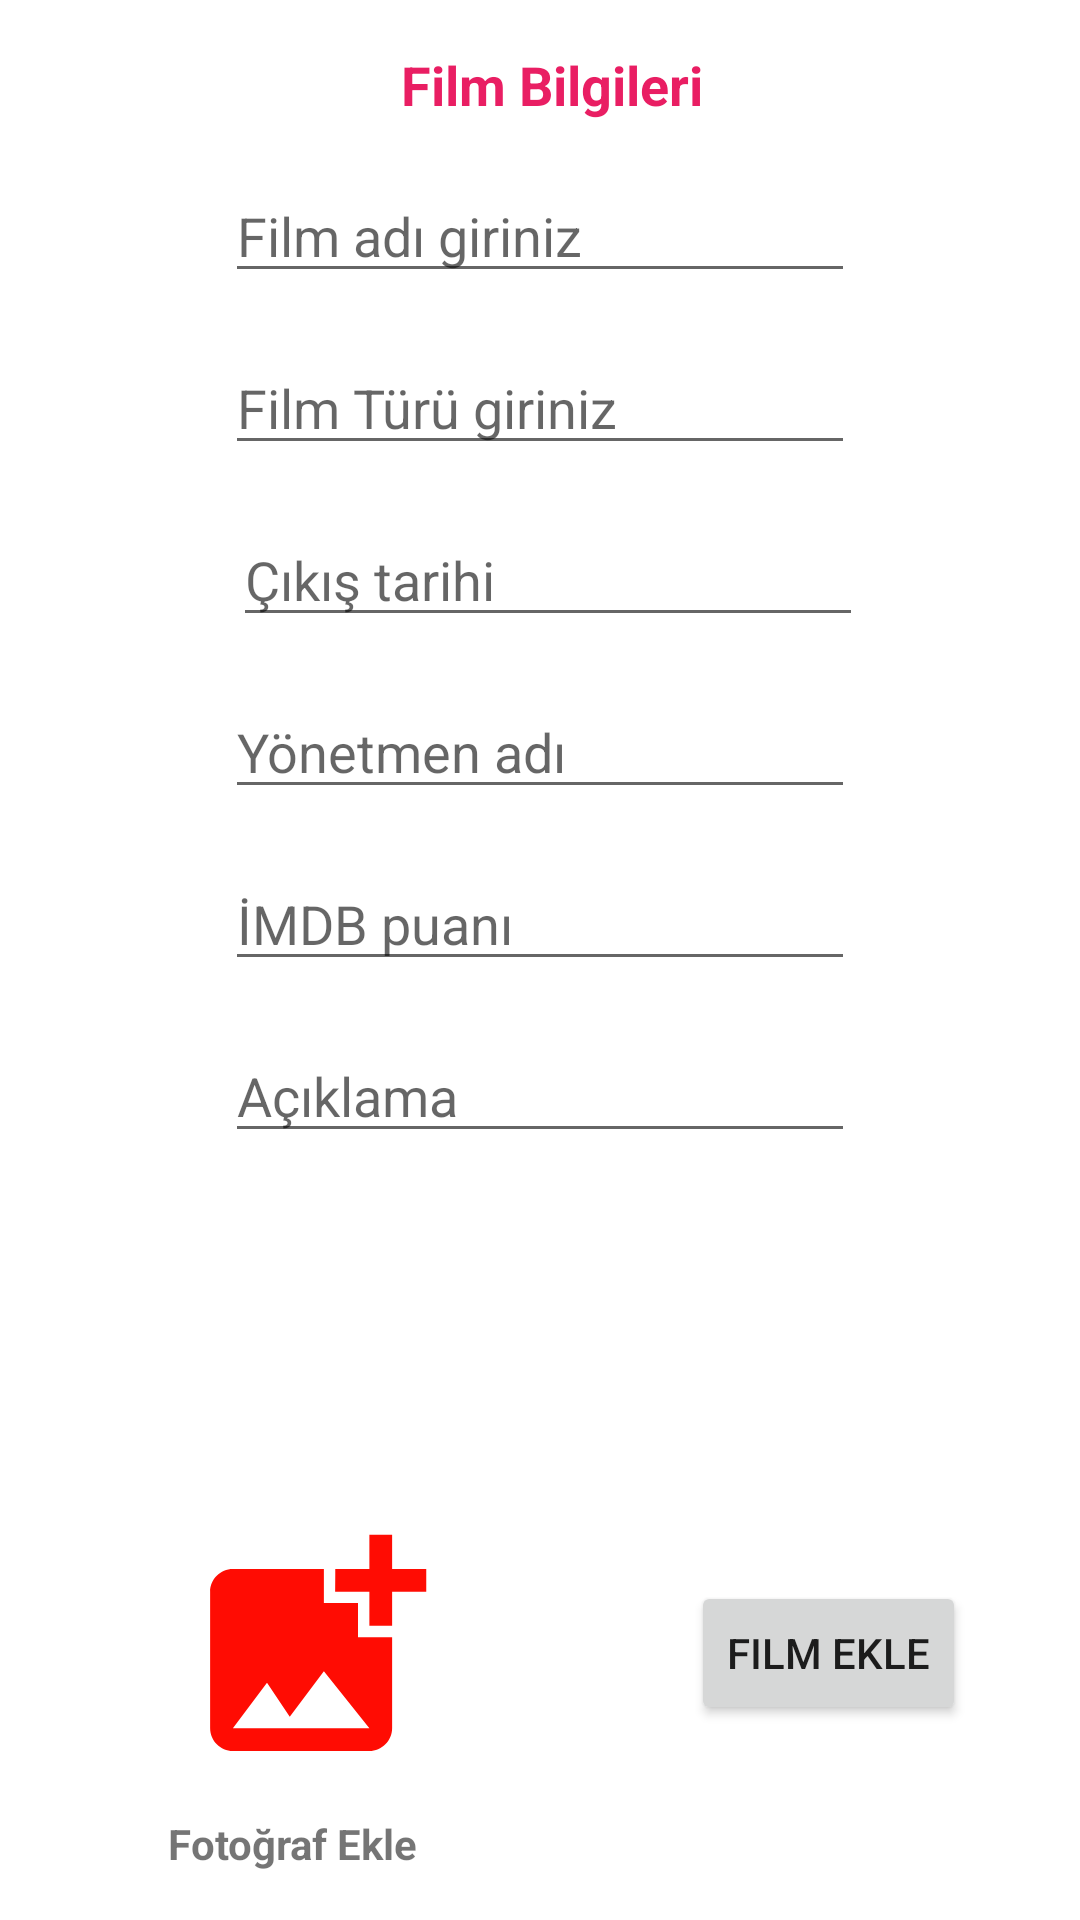

Named icons in this screenshot (1080px x 1920px) and their bounding boxes, (x1, y1, x2, y2):
add photo alternate: (210, 1534, 427, 1751)
